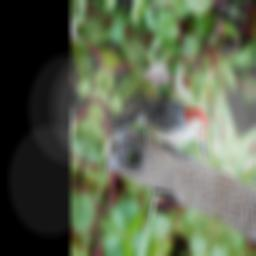Woodpecker: (102, 67, 218, 183)
